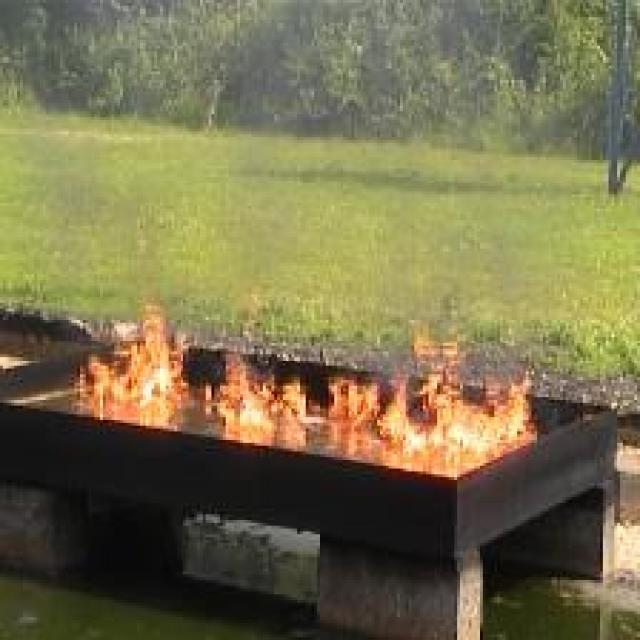Fire: (329, 323, 537, 463), (206, 296, 323, 430), (76, 307, 193, 410)
